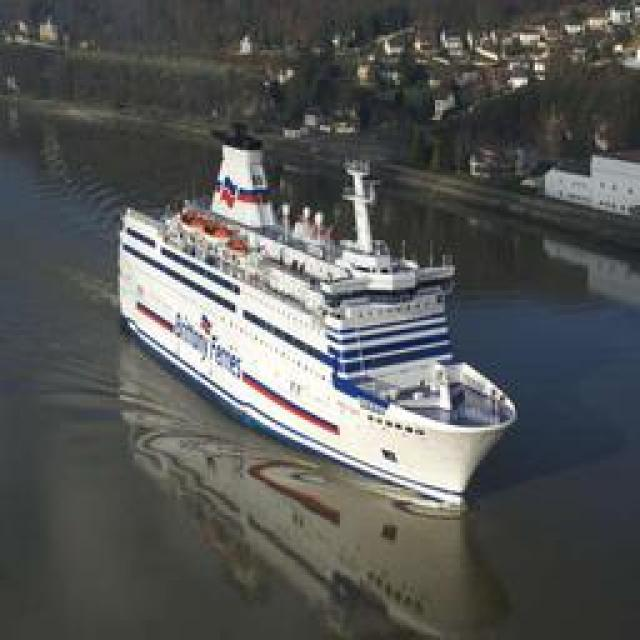CIV_Ship: (119, 156, 514, 516)
